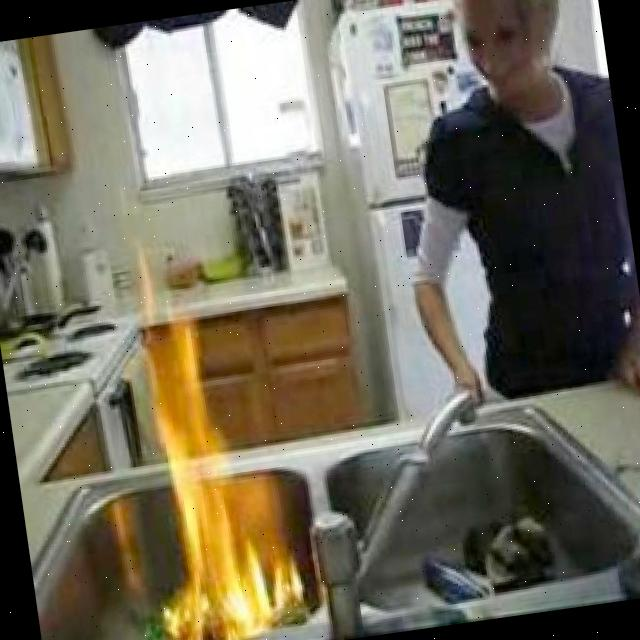fire: (115, 254, 305, 640)
